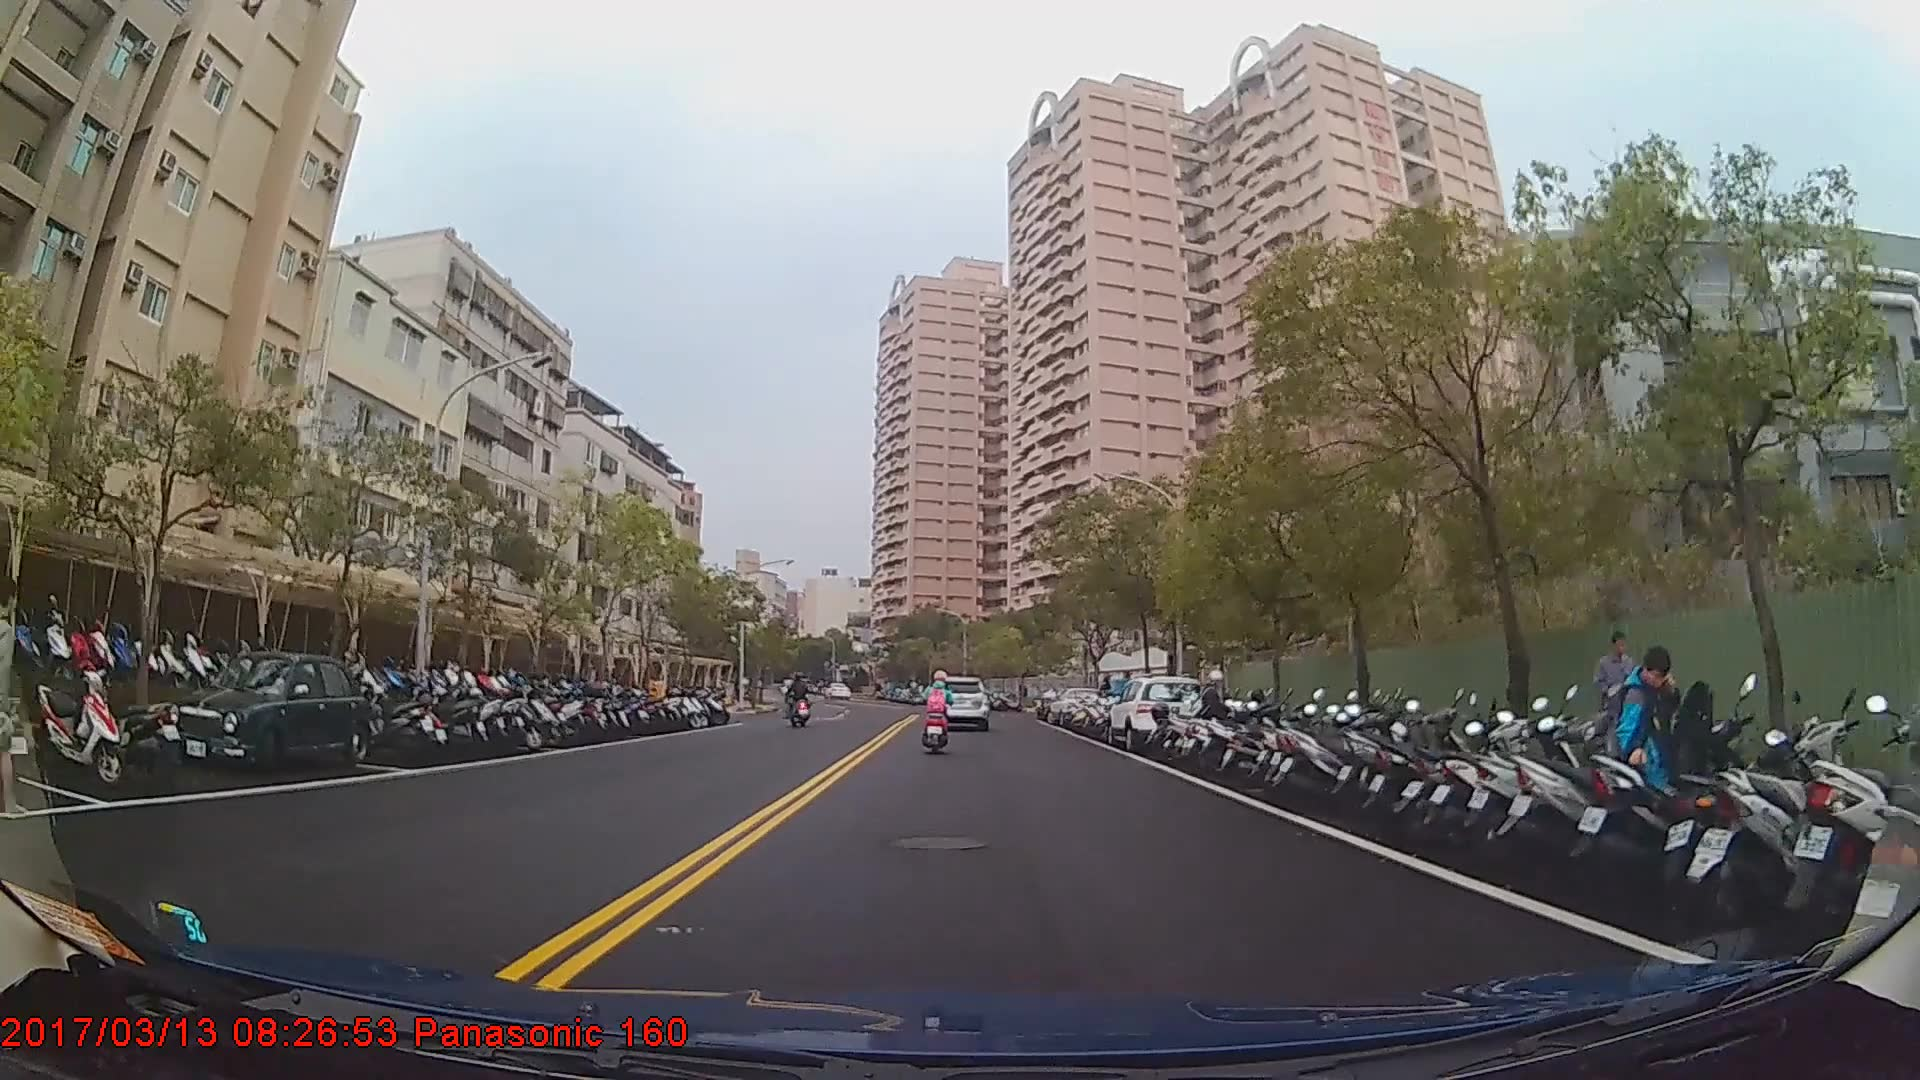pedestrian: (1603, 646, 1713, 874), (1593, 631, 1656, 777)
rider: (921, 669, 957, 756), (788, 672, 814, 731)
vehicle: (167, 650, 367, 780), (1106, 673, 1208, 754), (930, 680, 988, 733)
